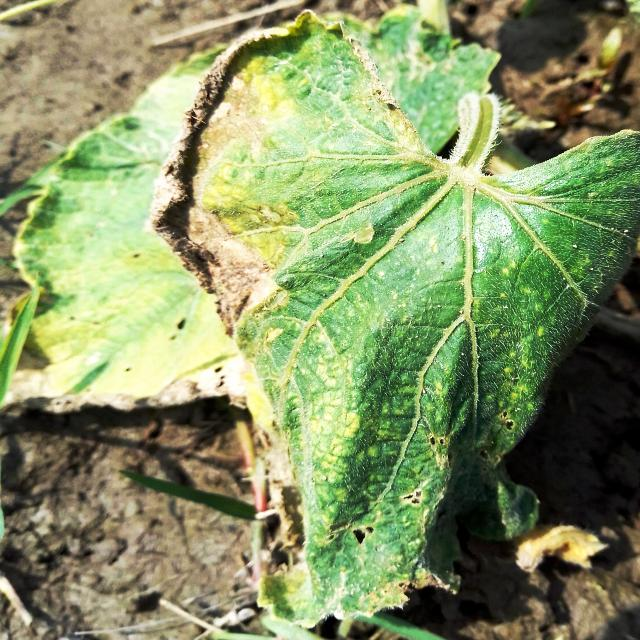Gummy-Stem-Blight: (146, 29, 287, 344)
